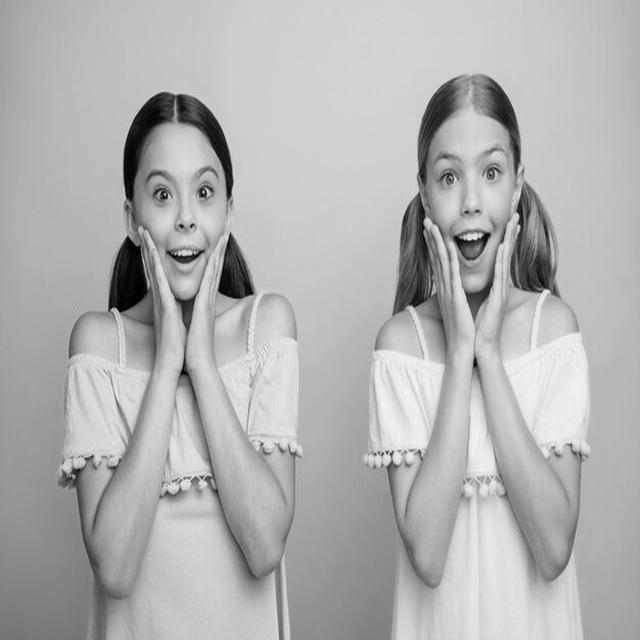Surprised: (134, 123, 228, 300), (426, 114, 516, 293)
